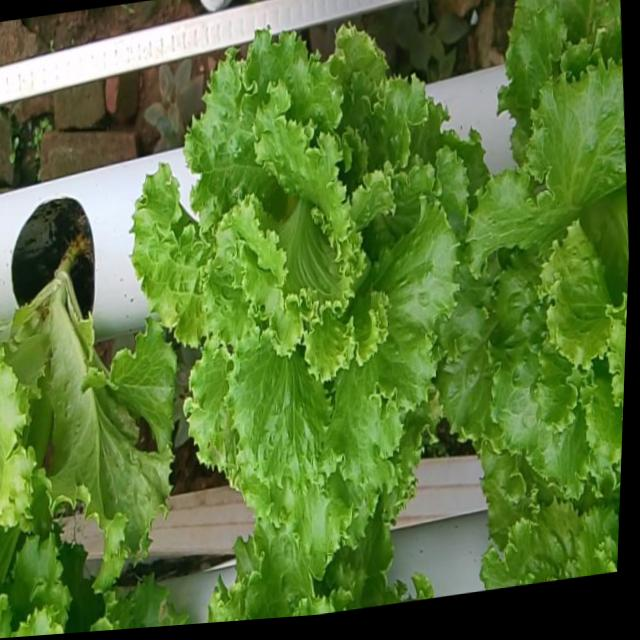Mature: (125, 5, 460, 535), (431, 29, 628, 478)
